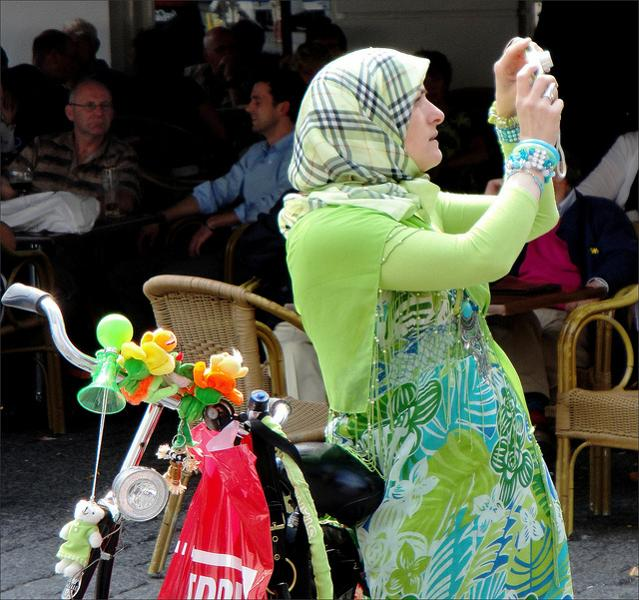person: (284, 38, 574, 600)
